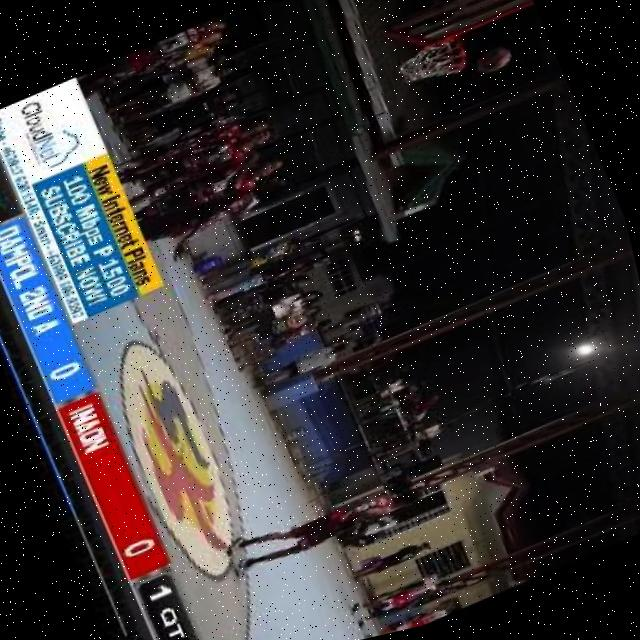ball: (462, 38, 521, 82)
hoop: (446, 32, 468, 78)
